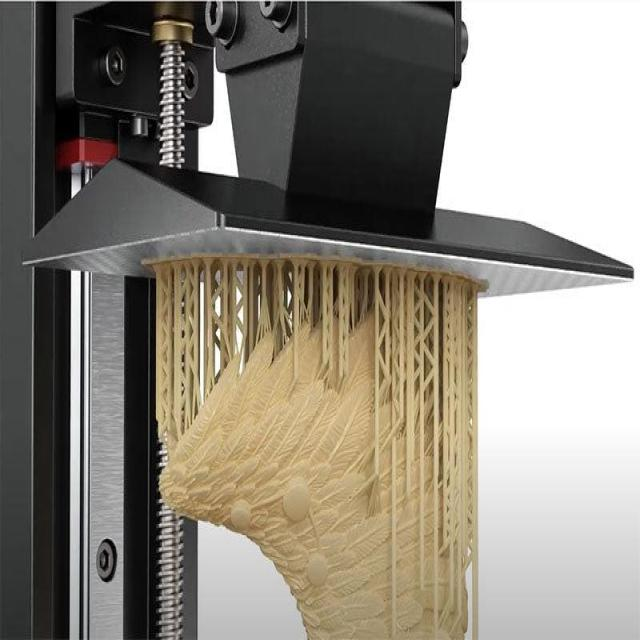Without deffect: (131, 245, 496, 640)
